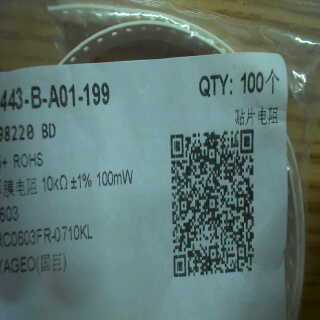10kR: (41, 172, 69, 194)
